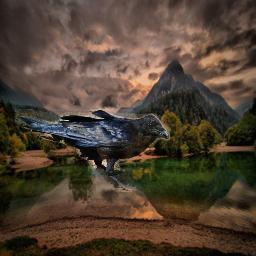Crow: (14, 109, 170, 192)
